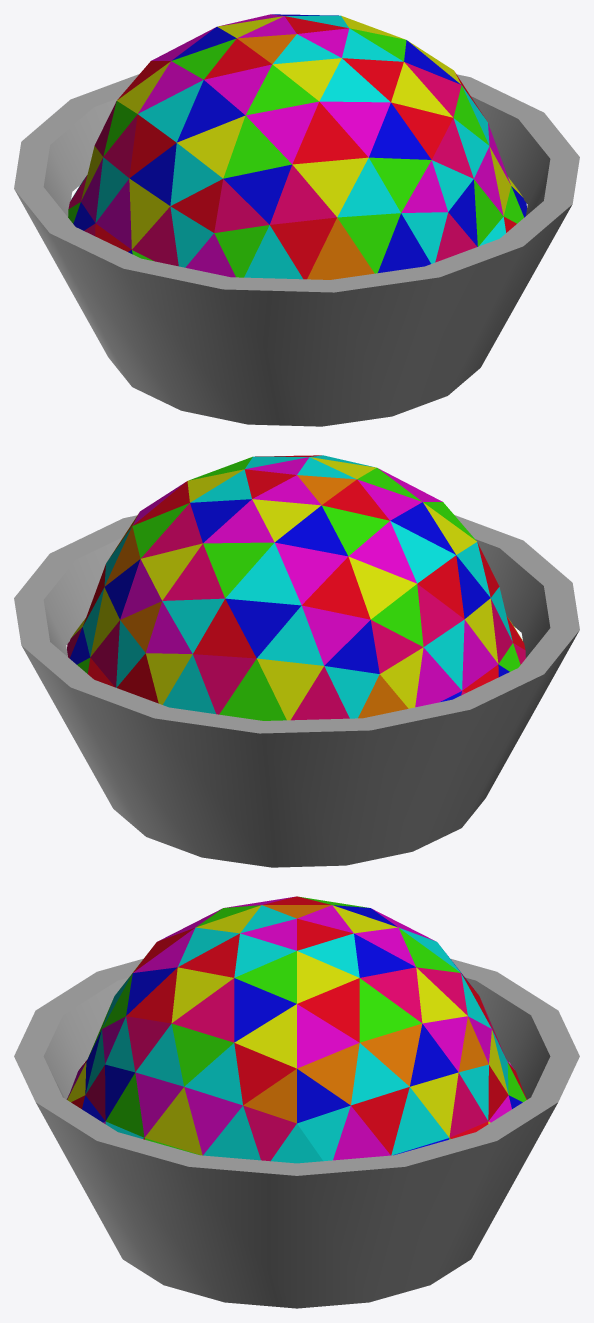
File: CandyBowl.glb
3 views of the same model, one above another, from view 1: azimuth 30°, elevation 25°; view 2: azimuth 150°, elevation 25°; view 3: azimuth 270°, elevation 25° (orthographic).
Parts seen in each view (by area): view 1: CandyBowl; view 2: CandyBowl; view 3: CandyBowl.
Part boxes in pixels (x1,y1,x2,y2): CandyBowl: (14,14,579,426); CandyBowl: (14,455,579,867); CandyBowl: (14,896,579,1308).
Size of the model in its own units: 0.5457 by 0.33 by 0.5457.
